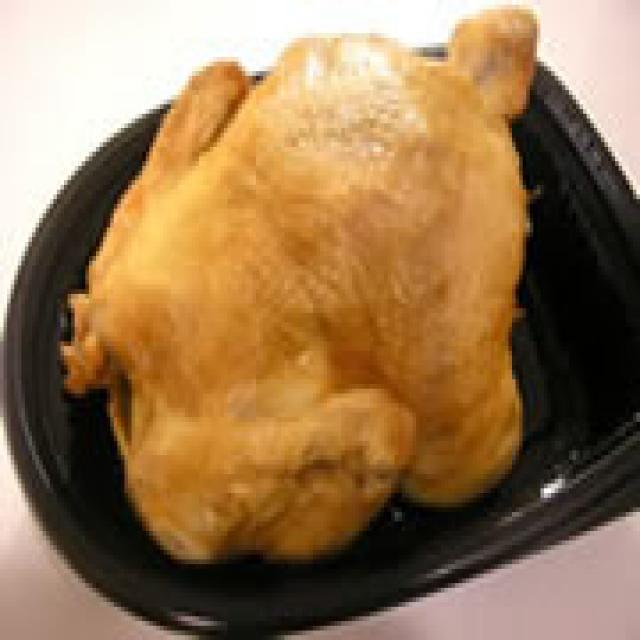Chicken roast: (89, 29, 559, 541)
